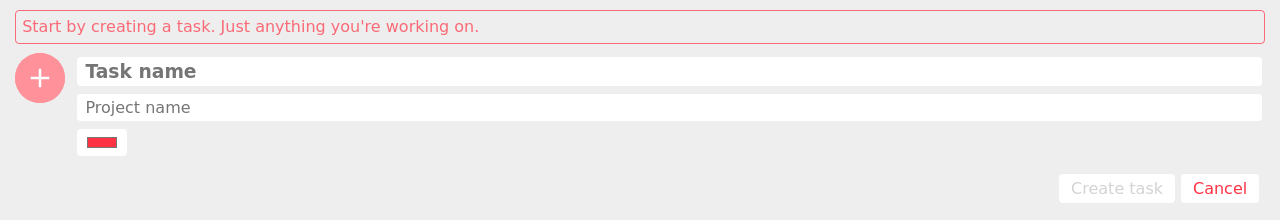
Scenario: CreateTask › cancels creation of new task
Click the button with class "cancel".
click(1220, 188)  # box [1181,174,1259,203]
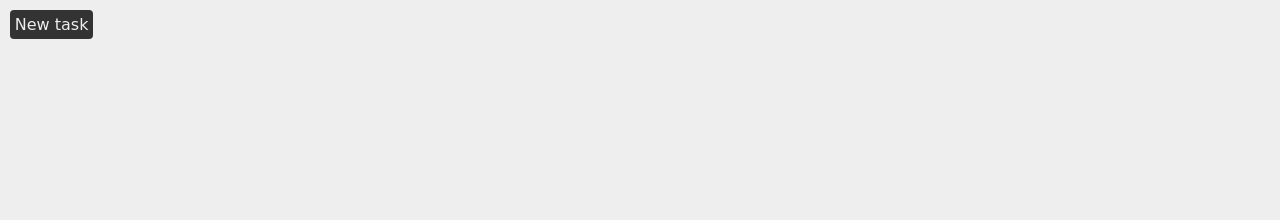
Now the number of buttons with class "new-task" is 1, box [10,10,93,39]
